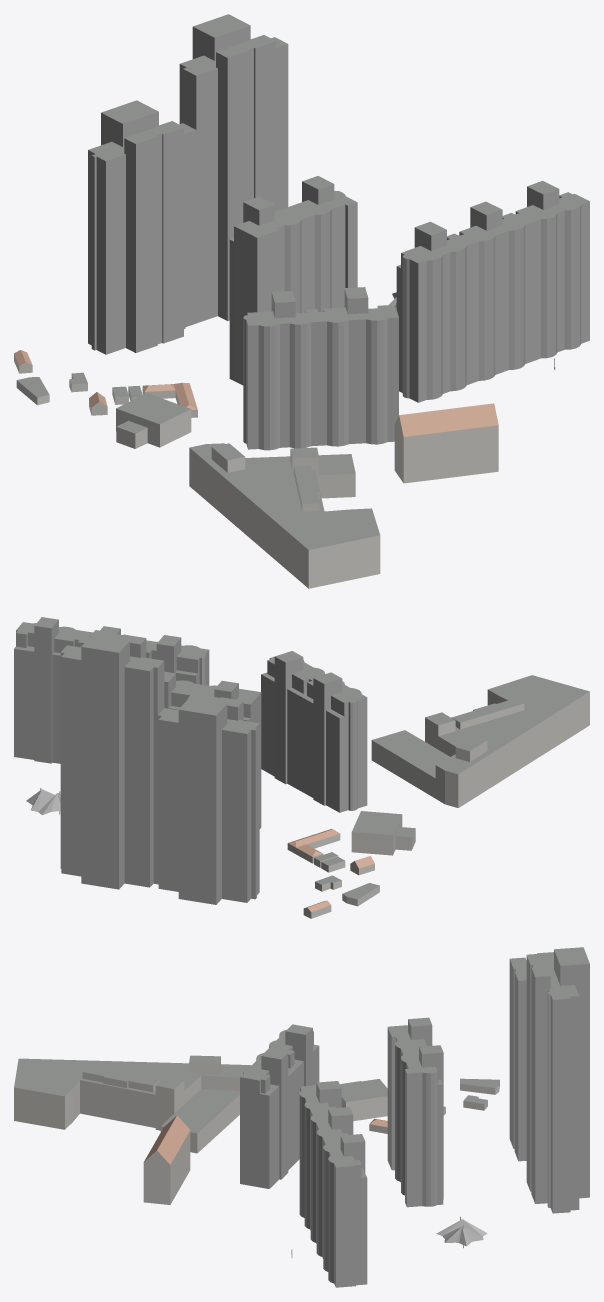
File: gridID_4.dae
3 renders of one model, top to bottom at view 1: azimuth 30°, elevation 25°; view 2: azimuth 150°, elevation 25°; view 3: azimuth 270°, elevation 25°, orthographic. The views are drawn at different scales.
Parts seen in each view (by area): view 1: model_gridID_4_w400227848_001, model_gridID_4_w400180889, model_gridID_4_w400460213, model_gridID_4_w399995190, model_gridID_4_w399272971_001, model_gridID_4_w400195471, model_gridID_4_w392438847, model_gridID_4_w400551922; view 2: model_gridID_4_w399995190, model_gridID_4_w400180889, model_gridID_4_w399272971_001, model_gridID_4_w400460213, model_gridID_4_w400227848_001, model_gridID_4_w400195471, model_gridID_4_w400551922, model_gridID_4_w401254872, model_gridID_4_w400570643, model_gridID_4_w400570644, model_gridID_4_w400551920; view 3: model_gridID_4_w399995190, model_gridID_4_w399272971_001, model_gridID_4_w400227848_001, model_gridID_4_w400195471, model_gridID_4_w400460213, model_gridID_4_w400180889, model_gridID_4_w392438847, model_gridID_4_w400551922, model_gridID_4_w401254872, model_gridID_4_w400570644.
Part boxes in pixels (bbox=[...]): model_gridID_4_w400227848_001: bbox=[396, 180, 589, 402]; model_gridID_4_w400180889: bbox=[88, 100, 196, 354]; model_gridID_4_w400460213: bbox=[243, 287, 398, 450]; model_gridID_4_w399995190: bbox=[179, 14, 288, 323]; model_gridID_4_w399272971_001: bbox=[189, 443, 380, 588]; model_gridID_4_w400195471: bbox=[229, 176, 357, 385]; model_gridID_4_w392438847: bbox=[394, 403, 498, 483]; model_gridID_4_w400551922: bbox=[116, 393, 191, 447]; model_gridID_4_w399995190: bbox=[60, 630, 164, 889]; model_gridID_4_w400180889: bbox=[157, 693, 259, 904]; model_gridID_4_w399272971_001: bbox=[371, 675, 589, 807]; model_gridID_4_w400460213: bbox=[261, 651, 367, 812]; model_gridID_4_w400227848_001: bbox=[14, 617, 209, 763]; model_gridID_4_w400195471: bbox=[164, 671, 261, 828]; model_gridID_4_w400551922: bbox=[351, 811, 402, 855]; model_gridID_4_w401254872: bbox=[26, 788, 60, 815]; model_gridID_4_w400570643: bbox=[287, 829, 340, 854]; model_gridID_4_w400570644: bbox=[342, 883, 379, 906]; model_gridID_4_w400551920: bbox=[395, 827, 415, 850]; model_gridID_4_w399995190: bbox=[526, 947, 589, 1213]; model_gridID_4_w399272971_001: bbox=[14, 1055, 251, 1153]; model_gridID_4_w400227848_001: bbox=[299, 1081, 367, 1287]; model_gridID_4_w400195471: bbox=[387, 1017, 443, 1207]; model_gridID_4_w400460213: bbox=[240, 1024, 319, 1188]; model_gridID_4_w400180889: bbox=[509, 952, 553, 1161]; model_gridID_4_w392438847: bbox=[143, 1115, 190, 1204]; model_gridID_4_w400551922: bbox=[340, 1079, 387, 1121]; model_gridID_4_w401254872: bbox=[436, 1216, 487, 1248]; model_gridID_4_w400570644: bbox=[460, 1078, 499, 1094].
Size of the model in its own units: 162 by 195 by 87.5.
